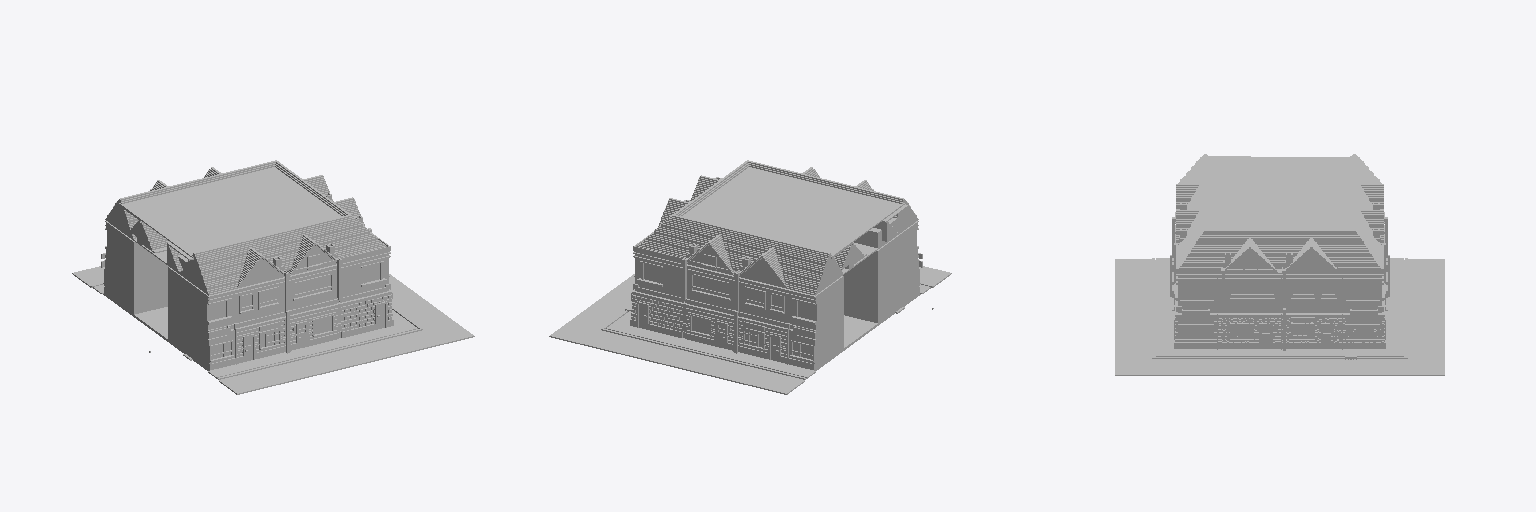
Rendered from bpw-6-HOUSE.obj.
3 views of the same model, side by side, from view 1: azimuth 30°, elevation 25°; view 2: azimuth 150°, elevation 25°; view 3: azimuth 270°, elevation 25° (orthographic).
Parts seen in each view (by area): view 1: HOUSE; view 2: HOUSE; view 3: HOUSE.
Boxes of the visible parts, x1,y1,x2,y2 form: HOUSE: [72, 160, 474, 394]; HOUSE: [549, 160, 951, 394]; HOUSE: [1115, 154, 1444, 375].
Size of the model in its own units: 23.5 by 8.9 by 24.7.